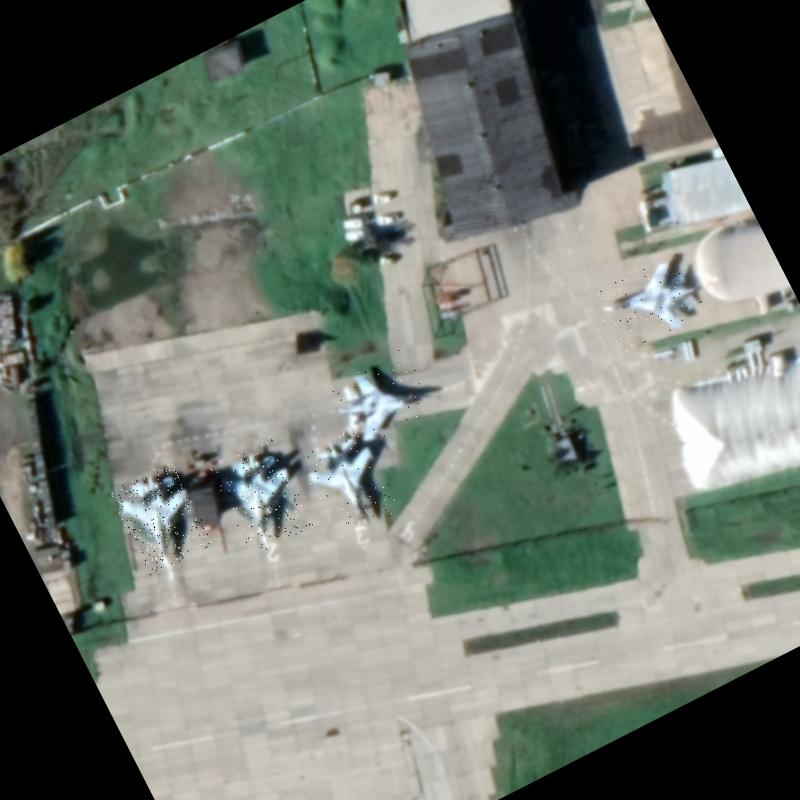A1: (208, 438, 316, 556), (294, 423, 402, 541), (591, 250, 708, 357), (323, 344, 439, 451), (108, 460, 213, 576)
